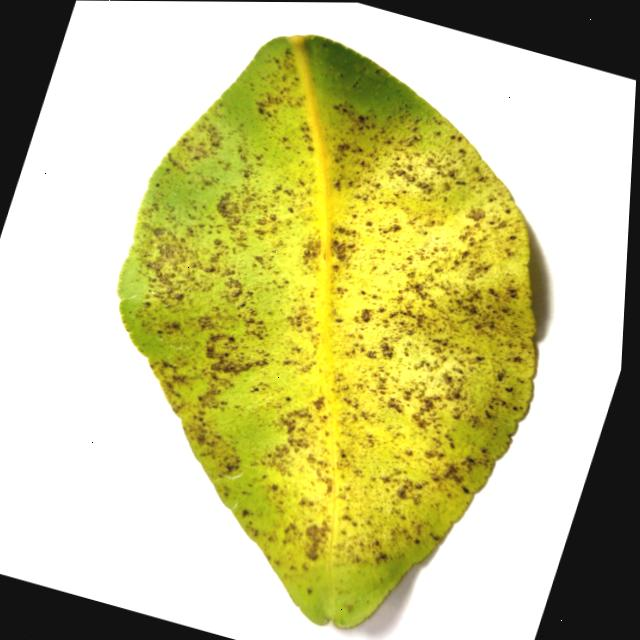melanose: (116, 34, 534, 626)
